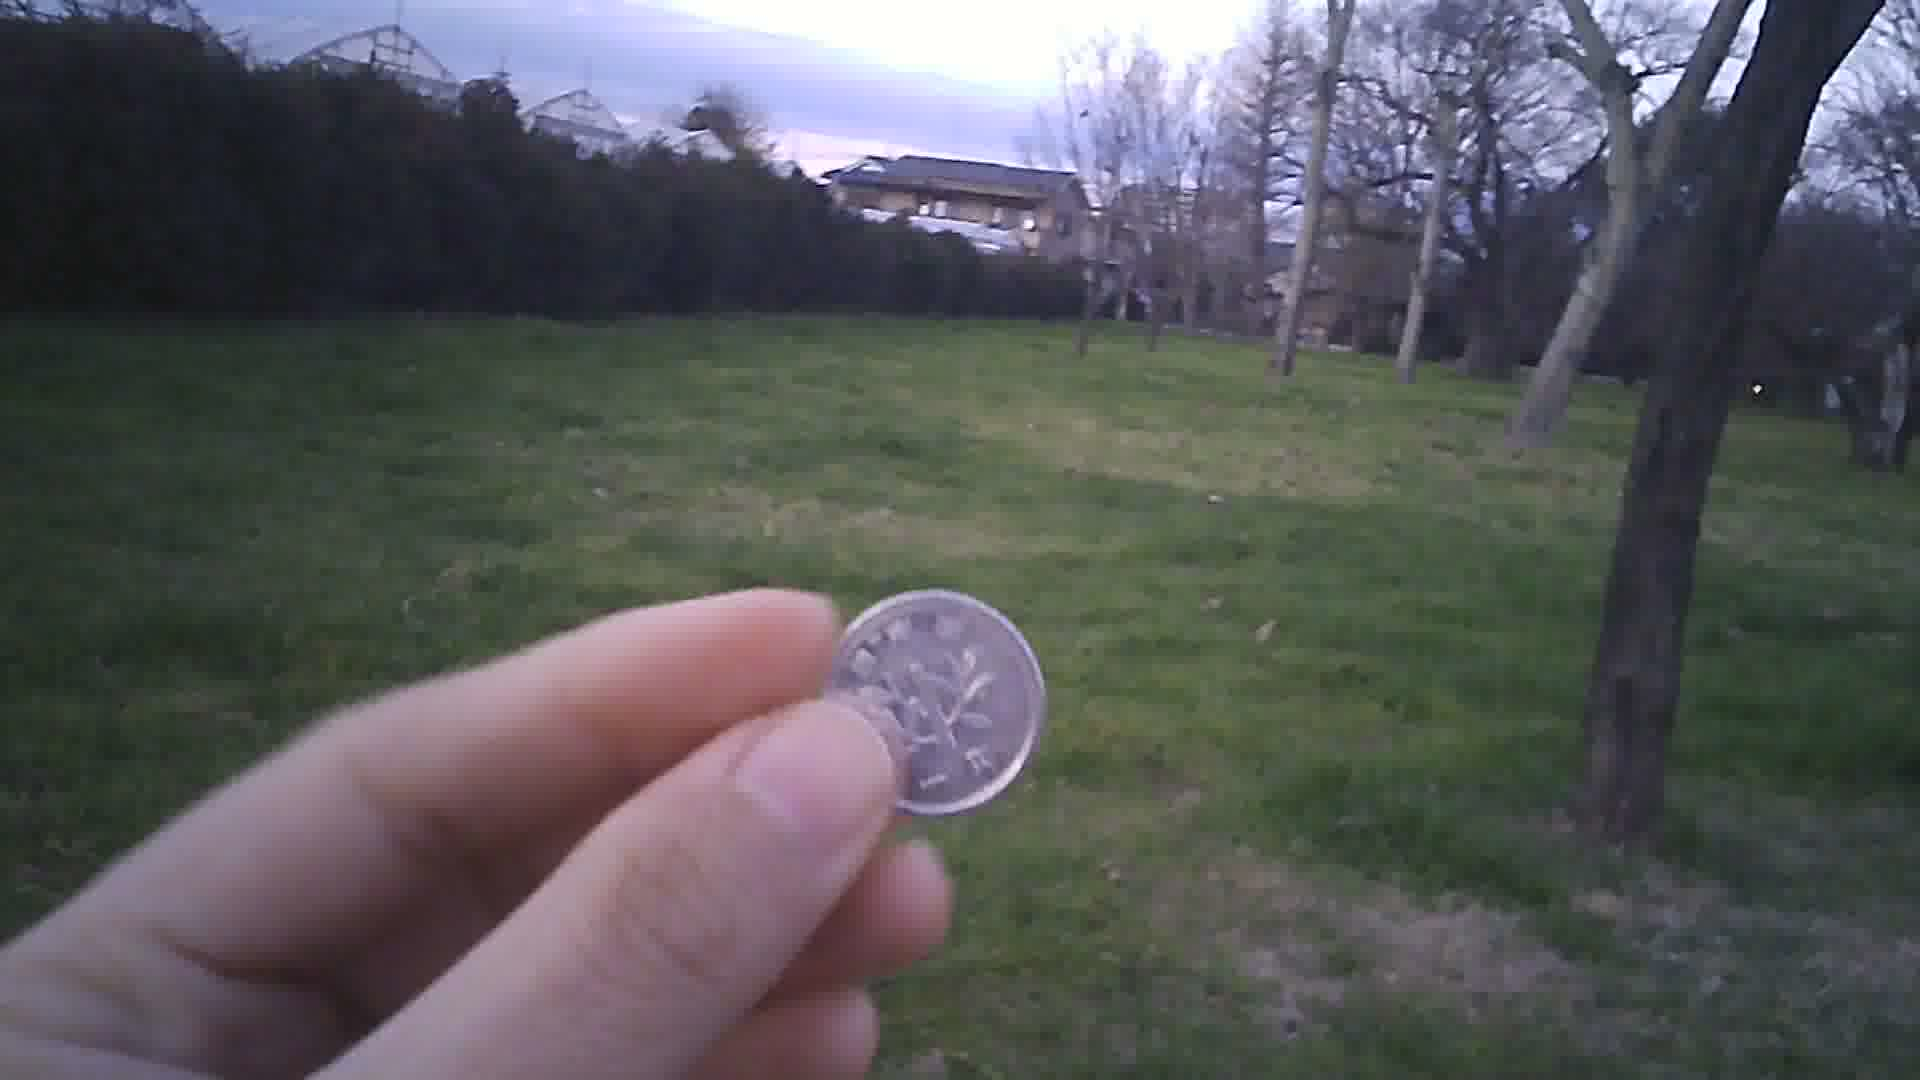1 Yen: (818, 583, 1060, 825)
